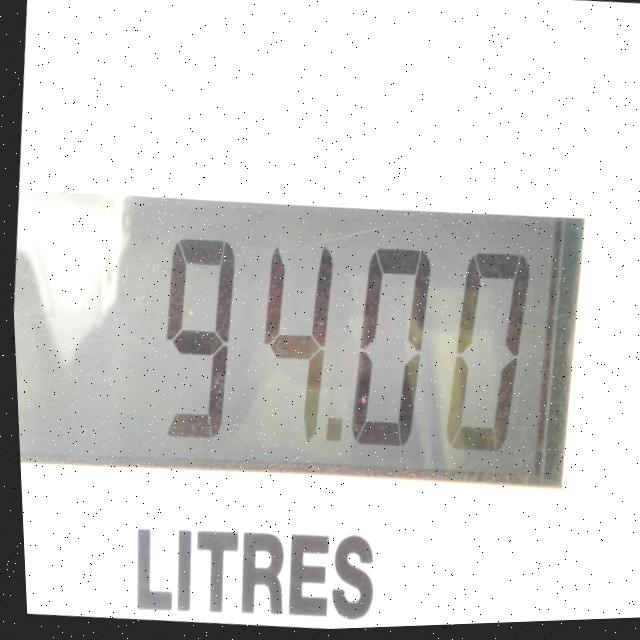.: (310, 397, 349, 463)
0: (329, 232, 456, 469), (432, 231, 539, 472)
4: (244, 238, 341, 447)
9: (144, 232, 249, 450)
